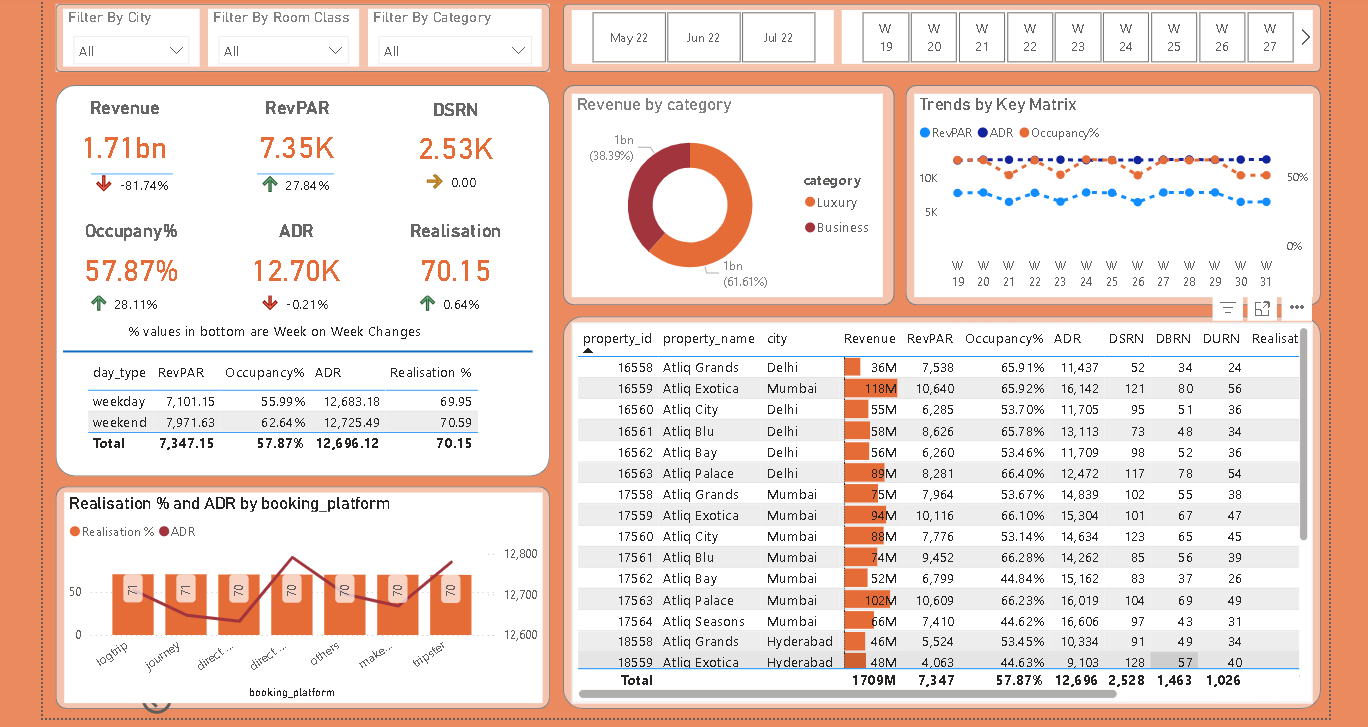

This screenshot's page, from the dashboard's own definition file:
{"tool":"powerbi","page":{"name":"Home Page","canvas":[1280,720],"ordinal":0},"visuals":[{"type":"shape","box":[11.9,8.3,492.3,67.9],"z":0},{"type":"shape","box":[517.3,8.3,754.6,67.9],"z":1000},{"type":"shape","box":[11.9,89.4,492.3,389.8],"z":2000},{"type":"shape","box":[11.9,488.7,492.3,221.7],"z":3000},{"type":"shape","box":[517.3,89.4,330.2,219.3],"z":4000},{"type":"shape","box":[858.3,89.4,413.6,219.3],"z":5000},{"type":"shape","box":[517.3,319.5,754.6,391],"z":6000},{"type":"slicer","title":"Filter By City","fields":{"Values":["dim_hotels.city"]},"box":[20.3,14.3,135.9,57.2],"z":7000},{"type":"slicer","title":"Filter By Room Class","fields":{"Values":["dim_rooms.room_class"]},"box":[164.5,14.3,150.2,57.2],"z":8000},{"type":"slicer","title":"Filter By Category","fields":{"Values":["fact_bookings.room_category"]},"box":[323,14.3,172.8,57.2],"z":9000},{"type":"slicer","fields":{"Values":["dim_date.mmm yy"]},"box":[525.7,15.5,261.1,53.6],"z":10000},{"type":"slicer","fields":{"Values":["dim_date.week no"]},"box":[795.1,15.5,468.5,53.6],"z":11000},{"type":"actionButton","box":[93.3,680.4,99.5,39.8],"z":12000},{"type":"tableEx","fields":{"Values":["key_measures.DSRN WoW change %"]},"box":[370.7,141.9,77.5,63.2],"z":13000},{"type":"card","title":"DSRN","fields":{"Values":["key_measures.DSRN"]},"box":[349.3,103.7,122.8,75.1],"z":14000},{"type":"tableEx","fields":{"Values":["key_measures.RevPAR WoW change%"]},"box":[206.2,144.2,107.3,67.9],"z":15000},{"type":"tableEx","fields":{"Values":["key_measures.Revenue WoW change%"]},"box":[40.5,144.2,95.4,67.9],"z":16000},{"type":"card","title":"Revenue","fields":{"Values":["key_measures.Revenue"]},"box":[20.3,102.5,122.8,75.1],"z":17000},{"type":"tableEx","fields":{"Values":["key_measures.Occupancy WoW change%"]},"box":[35.8,262.2,93,63.2],"z":18000},{"type":"card","title":"Occupany%","fields":{"Values":["key_measures.Occupancy%"]},"box":[26.2,224.1,122.8,75.1],"z":19000},{"type":"tableEx","fields":{"Values":["key_measures.ADR WoW change%"]},"box":[206.2,262.2,93,65.6],"z":20000},{"type":"card","title":"ADR","fields":{"Values":["key_measures.ADR"]},"box":[190.7,224.1,122.8,75.1],"z":21000},{"type":"tableEx","fields":{"Values":["key_measures.Realisation WoW change %"]},"box":[363.6,262.2,93,65.6],"z":22000},{"type":"card","title":"Realisation","fields":{"Values":["key_measures.Realisation %"]},"box":[349.3,224.1,122.8,75.1],"z":23000},{"type":"card","title":"RevPAR","fields":{"Values":["key_measures.RevPAR"]},"box":[191.2,102.3,122.8,75.1],"z":24000},{"type":"tableEx","fields":{"Values":["dim_date.day_type","key_measures.RevPAR","key_measures.Occupancy%","key_measures.ADR","key_measures.Realisation %"]},"box":[38.1,360,427.9,109.7],"z":25000},{"type":"shape","box":[20.3,349.3,467.3,10.7],"z":26000},{"type":"textbox","box":[79.9,319.5,356.4,31],"z":27000},{"type":"lineStackedColumnComboChart","fields":{"Category":["fact_bookings.booking_platform"],"Y":["key_measures.Realisation %"],"Y2":["key_measures.ADR"]},"box":[21.5,494.7,475.6,209.8],"z":28000},{"type":"donutChart","fields":{"Category":["dim_hotels.category"],"Y":["key_measures.Revenue"]},"box":[525.7,97.7,309.9,202.6],"z":29000},{"type":"tableEx","fields":{"Values":["dim_hotels.property_id","dim_hotels.property_name","dim_hotels.city","key_measures.Revenue","key_measures.RevPAR","key_measures.Occupancy%","key_measures.ADR","key_measures.DSRN","key_measures.DBRN","key_measures.DURN","key_measures.Realisation %","key_measures.Cancellation%"]},"box":[525.7,325.4,737.9,379.1],"z":30000},{"type":"lineChart","title":"Trends by Key Matrix","fields":{"Category":["dim_date.mmm yy.Variation.Date Hierarchy.Month","dim_date.week no"],"Y":["key_measures.RevPAR","key_measures.ADR"],"Y2":["key_measures.Occupancy%"]},"box":[866.6,97.7,396.9,202.6],"z":31000}]}

Visuals, with their boxes in screenshot pixels (x1, y1, x2, y2):
shape: 58 1 548 69
shape: 561 1 1312 69
shape: 58 82 548 470
shape: 58 479 548 700
shape: 561 82 890 300
shape: 901 82 1312 300
shape: 561 311 1312 700
"Filter By City" slicer: 67 7 202 64
"Filter By Room Class" slicer: 210 7 360 64
"Filter By Category" slicer: 368 7 540 64
slicer - dim_date.mmm yy: 570 8 830 62
slicer - dim_date.week no: 838 8 1304 62
actionButton: 139 670 238 710
tableEx - key_measures.DSRN WoW change %: 415 134 492 197
"DSRN" card: 394 96 516 171
tableEx - key_measures.RevPAR WoW change%: 252 136 358 204
tableEx - key_measures.Revenue WoW change%: 87 136 182 204
"Revenue" card: 67 95 189 170
tableEx - key_measures.Occupancy WoW change%: 82 254 175 317
"Occupany%" card: 72 216 195 291
tableEx - key_measures.ADR WoW change%: 252 254 344 319
"ADR" card: 236 216 358 291
tableEx - key_measures.Realisation WoW change %: 408 254 501 319
"Realisation" card: 394 216 516 291
"RevPAR" card: 237 95 359 169
tableEx - dim_date.day_type x key_measures.RevPAR: 84 351 510 460
shape: 67 341 532 351
textbox: 126 311 481 342
lineStackedColumnComboChart - fact_bookings.booking_platform x key_measures.Realisation %: 68 485 541 694
donutChart - dim_hotels.category x key_measures.Revenue: 570 90 878 292
tableEx - dim_hotels.property_id x dim_hotels.property_name: 570 317 1304 694
"Trends by Key Matrix" lineChart: 909 90 1304 292
